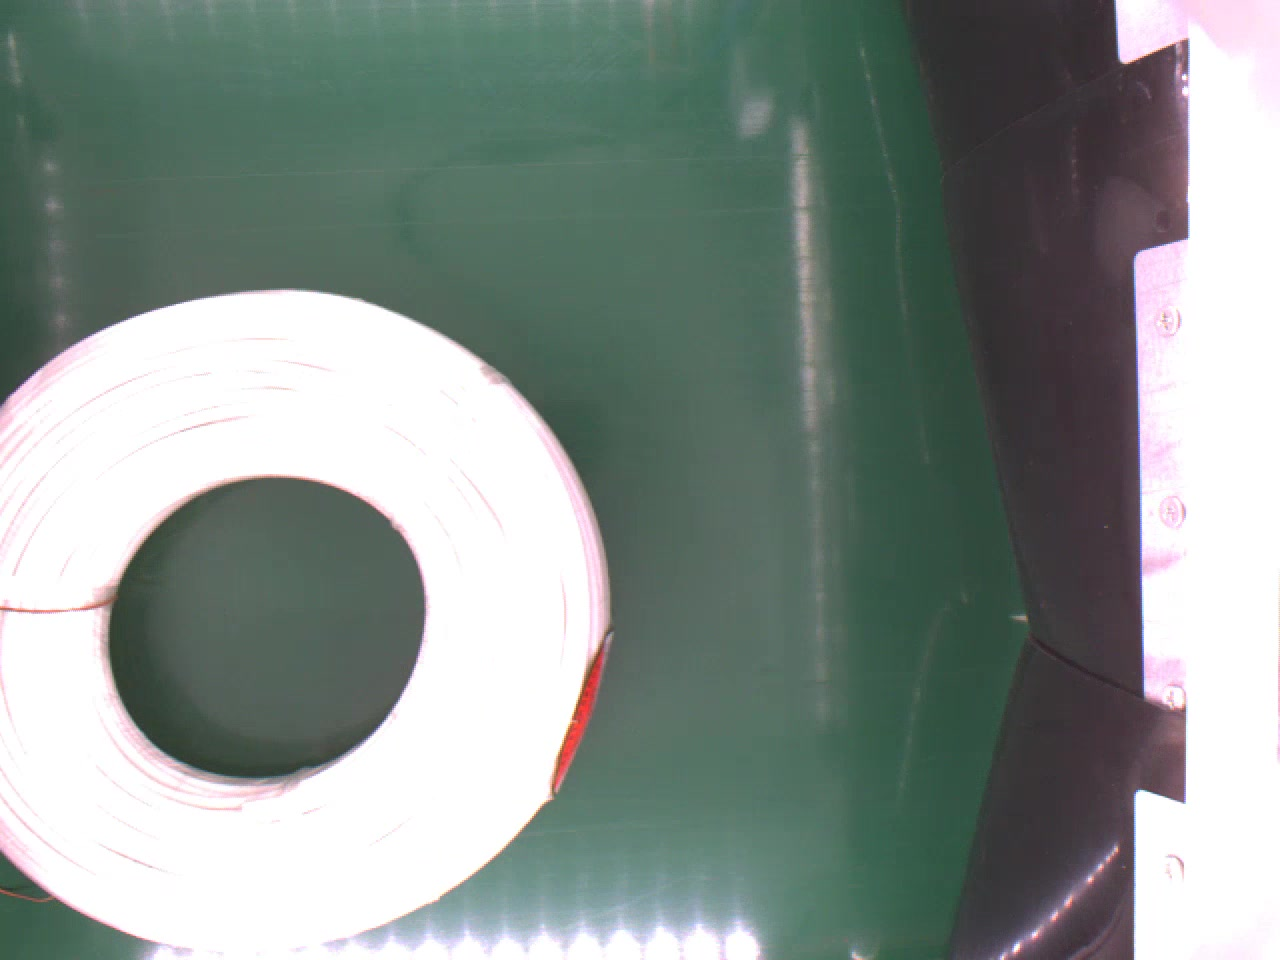white: (0, 288, 609, 954)
